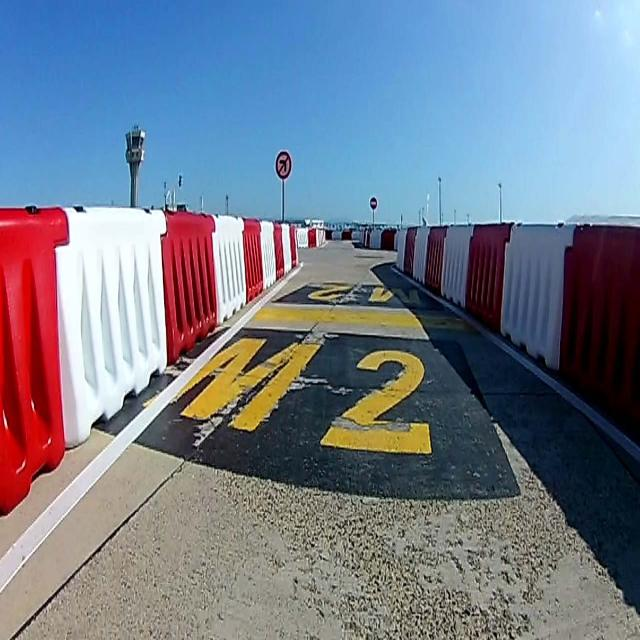girisyok: (370, 194, 378, 210)
soladonulmez: (274, 149, 294, 182)
